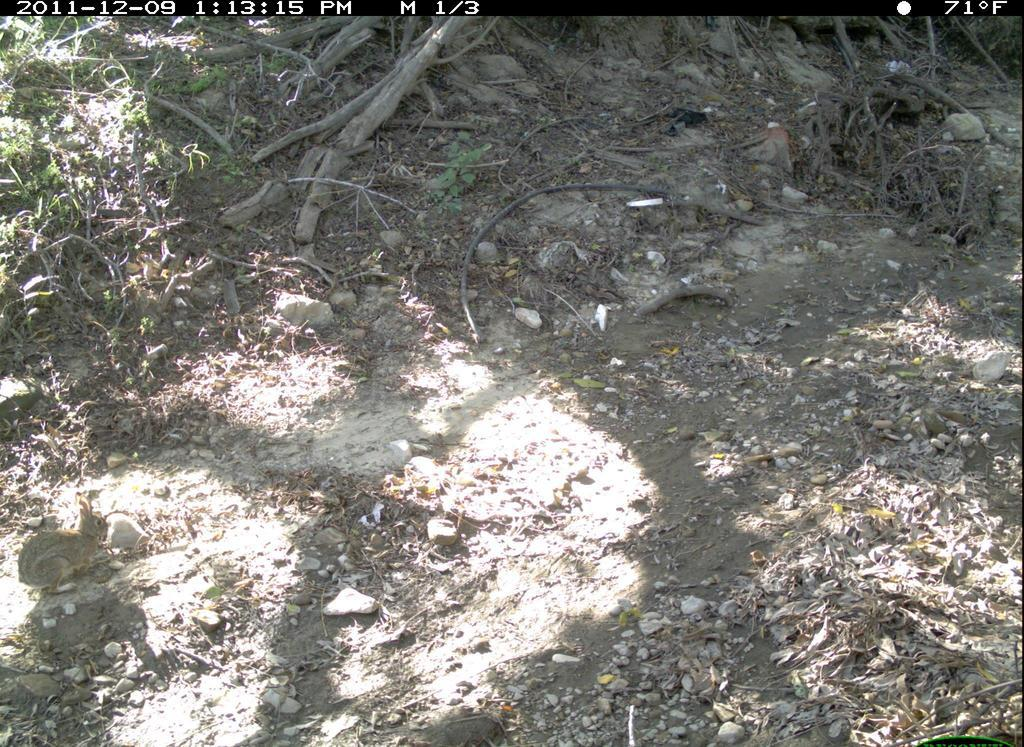rabbit: (15, 489, 129, 614)
